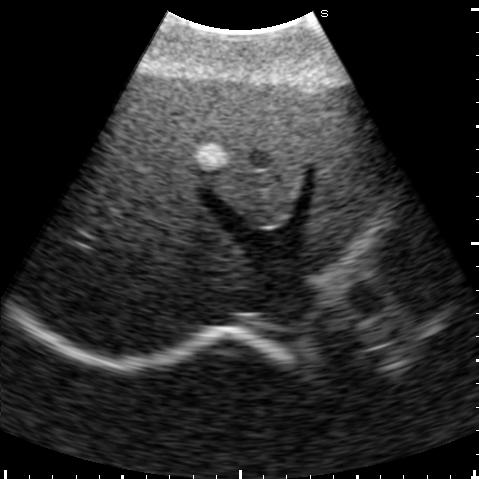S2: (309, 102, 379, 264)
S4: (121, 77, 318, 226)
S7: (48, 265, 184, 353)
S8: (84, 141, 243, 276)
Tumor: (196, 144, 225, 169)
